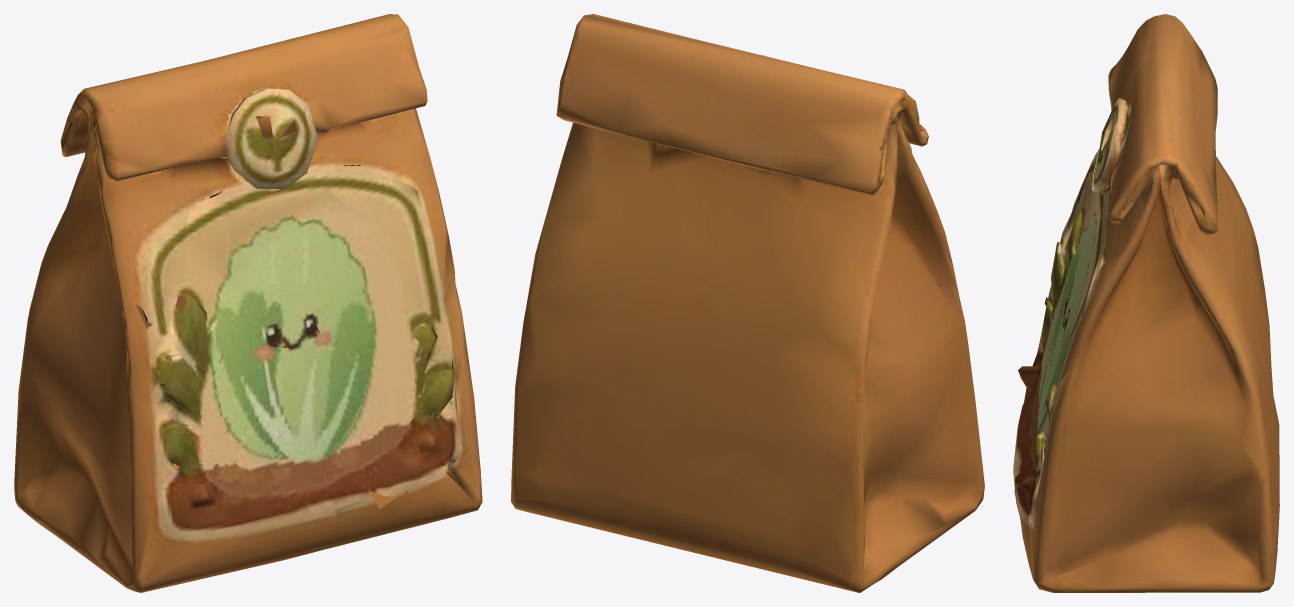
3 renders of one model, left to right at view 1: azimuth 30°, elevation 25°; view 2: azimuth 150°, elevation 25°; view 3: azimuth 270°, elevation 25°, orthographic. The views are drawn at different scales.
Parts seen in each view (by area): view 1: seed-cabbage; view 2: seed-cabbage; view 3: seed-cabbage.
Part boxes in pixels (x1=…): seed-cabbage: x1=14, y1=14, x2=482, y2=592; seed-cabbage: x1=511, y1=14, x2=984, y2=592; seed-cabbage: x1=1013, y1=14, x2=1279, y2=592.
Size of the model in its own units: 0.1205 by 0.15 by 0.0841.
Materials: 1 (1 with a texture image).
